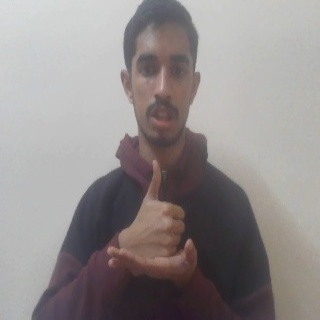Face: (118, 2, 204, 146)
Help: (107, 157, 206, 285)
